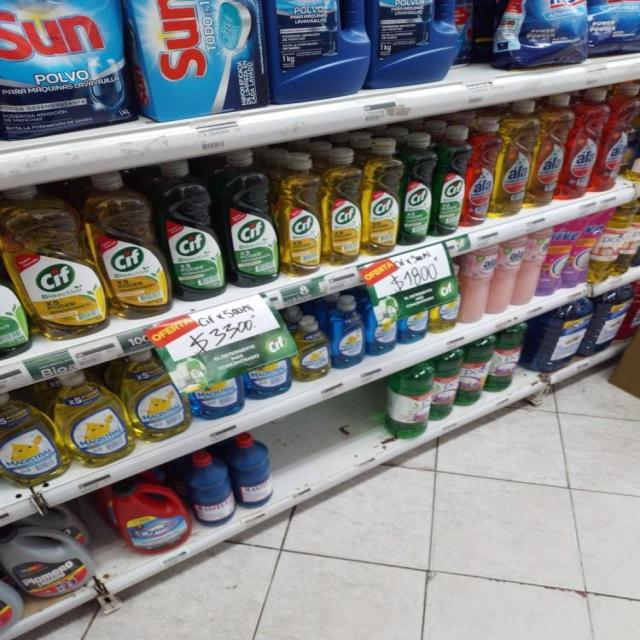ala_conc_amarillo: (498, 100, 534, 218), (534, 94, 566, 208)
ala_conc_rojo: (567, 89, 600, 198), (601, 83, 633, 193), (466, 119, 496, 227)
cif_conc_bot_amarilla: (15, 184, 101, 341), (100, 170, 165, 321), (279, 152, 322, 276), (323, 146, 362, 267), (363, 137, 401, 257)
cif_conc_botella_verde: (163, 158, 223, 302), (223, 150, 277, 288), (0, 195, 22, 361), (402, 132, 433, 245), (435, 126, 466, 237)
magistral_con_amarillo: (57, 370, 126, 468), (125, 348, 186, 442), (0, 391, 59, 486), (294, 315, 329, 383), (430, 266, 460, 334)
magistral_con_azul: (244, 323, 291, 400), (331, 295, 364, 370), (366, 292, 397, 356), (399, 294, 428, 344)
